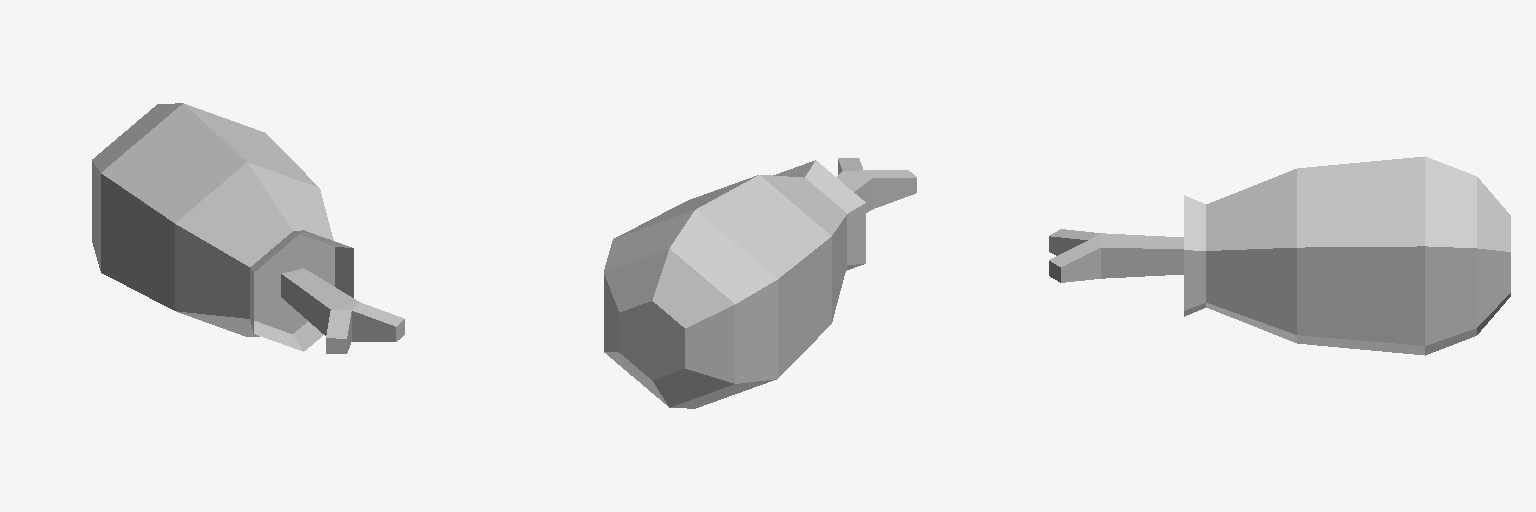
Rendered from wholerHam.obj.
3 views of the same model, side by side, from view 1: azimuth 30°, elevation 25°; view 2: azimuth 150°, elevation 25°; view 3: azimuth 270°, elevation 25° (orthographic).
Parts seen in each view (by area): view 1: wholerHam; view 2: wholerHam; view 3: wholerHam.
Boxes of the visible parts, <box> form: wholerHam: <box>92,103,404,353</box>; wholerHam: <box>604,158,916,408</box>; wholerHam: <box>1049,156,1510,355</box>.
Bounding box in the file's own units: 0.3411 × 0.3938 × 0.8294.